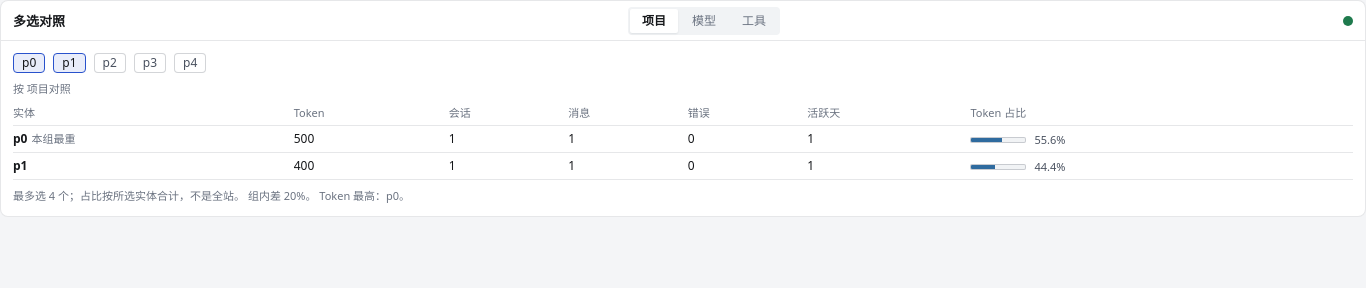
Test: MultiComparePanel（I4 多选对照） › 选到第 4 个后，其余 chip 直接 disabled 并写明上限
# 默认已选前两个（p0、p1），再点 p2、p3 补到 4 个。
Click the button "p2": (110, 63) [94,53,126,73]
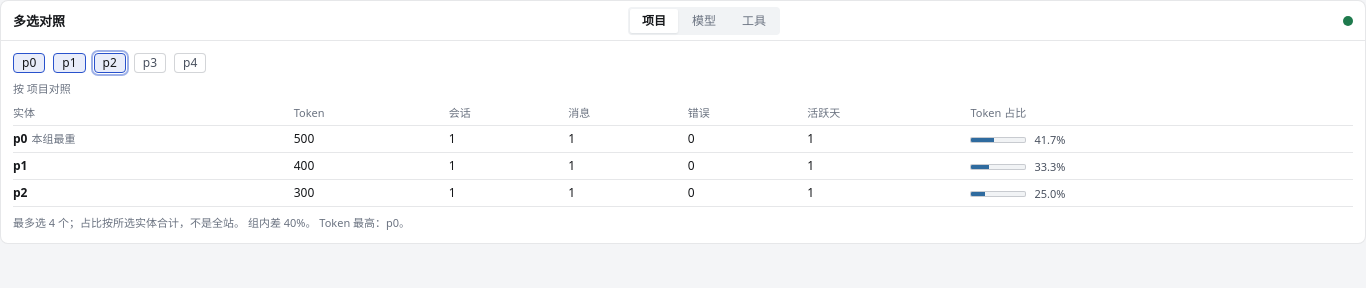
Click the button "p3": (150, 63) [134,53,166,73]
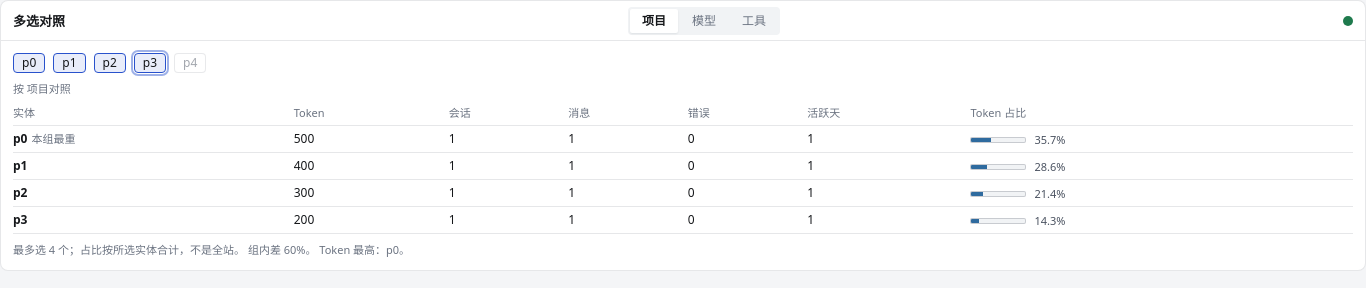
Expected: the button "p4" is disabled, [174,53,206,73]
